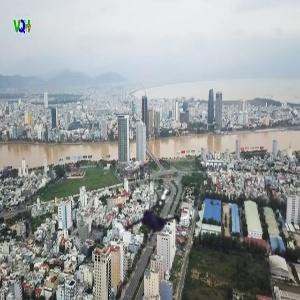drone: (116, 175, 196, 255)
